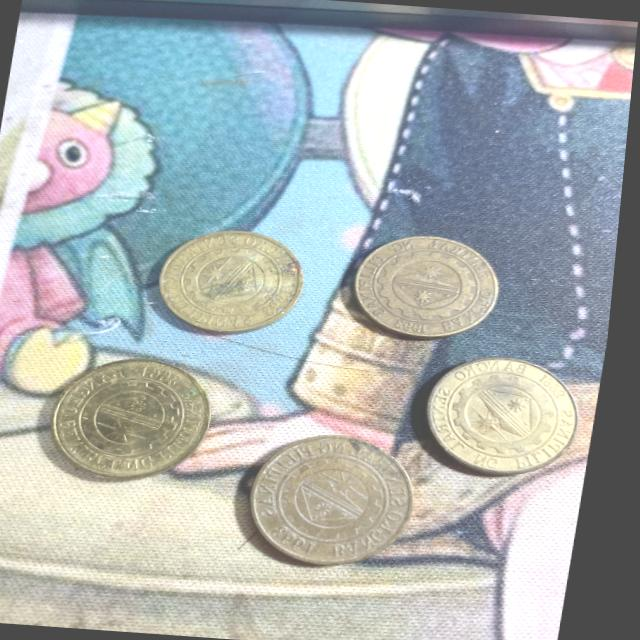25Cent_Old_Back: (53, 349, 229, 478), (431, 354, 592, 486), (261, 432, 422, 564), (351, 234, 505, 337), (168, 230, 312, 334)
